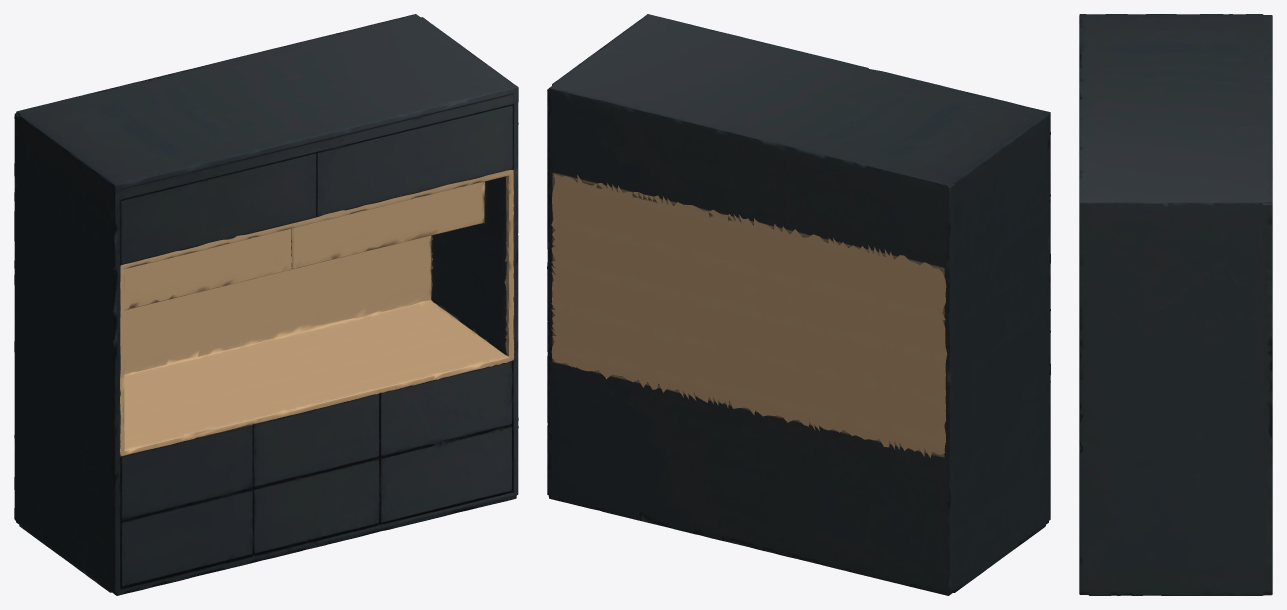
3 renders of one model, left to right at view 1: azimuth 30°, elevation 25°; view 2: azimuth 150°, elevation 25°; view 3: azimuth 270°, elevation 25°, orthographic. The views are drawn at different scales.
Parts seen in each view (by area): view 1: tripo_node_62d2babc-d025-47ac-b18b-1d5189e4ae69; view 2: tripo_node_62d2babc-d025-47ac-b18b-1d5189e4ae69; view 3: tripo_node_62d2babc-d025-47ac-b18b-1d5189e4ae69.
Part boxes in pixels (<box>): tripo_node_62d2babc-d025-47ac-b18b-1d5189e4ae69: <box>14,14,518,595</box>; tripo_node_62d2babc-d025-47ac-b18b-1d5189e4ae69: <box>547,14,1050,595</box>; tripo_node_62d2babc-d025-47ac-b18b-1d5189e4ae69: <box>1079,14,1272,595</box>.
Size of the model in its own units: 1.23 by 1.2 by 0.5317.
2 materials, 1 textured.
